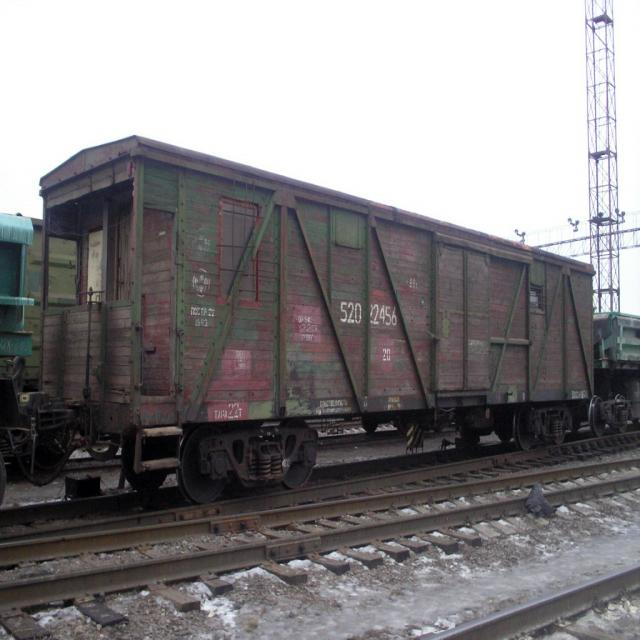boxcar: (34, 124, 600, 524)
